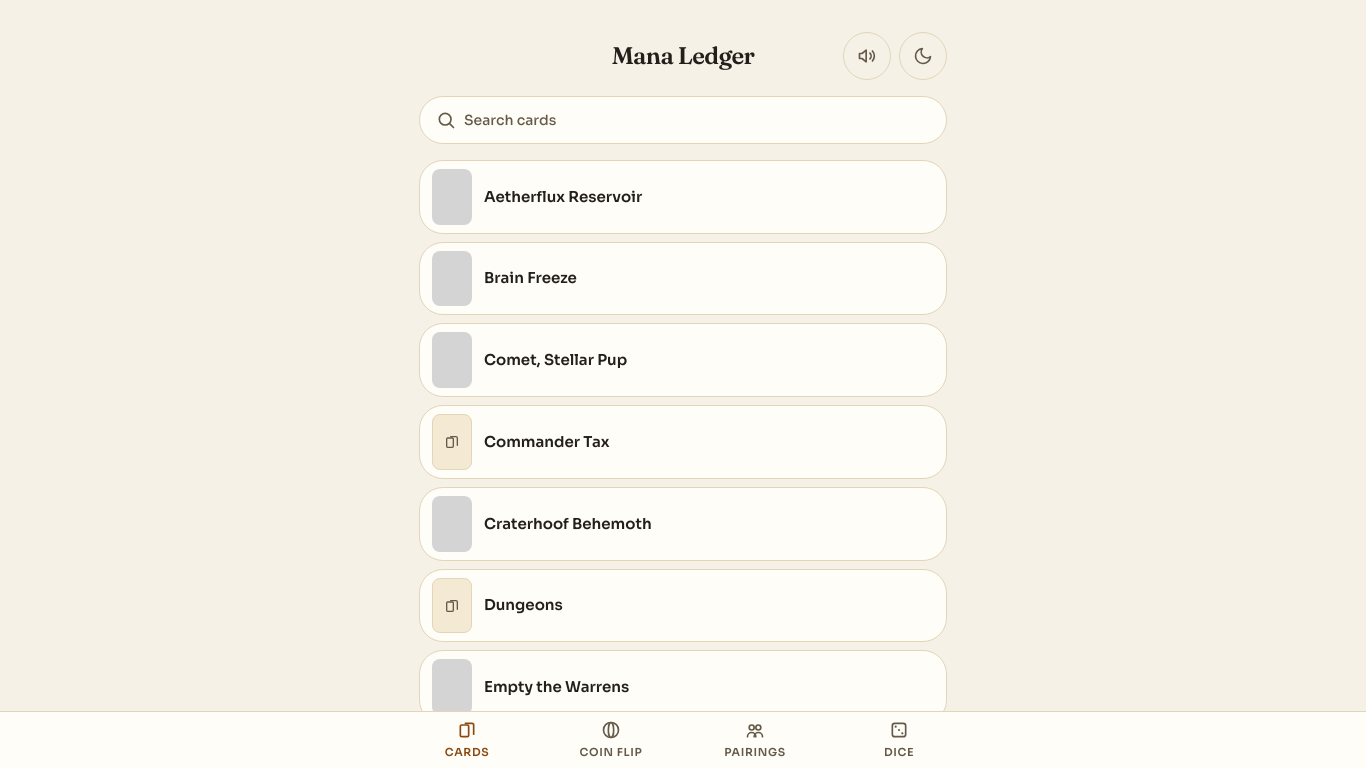
Scenario: App › switches to Coin Flip and back to the card picker
What coordinates should you click on to do the following:
click the button "Coin Flip"
I would click on:
 (611, 740)
Its box is [539, 712, 683, 767].
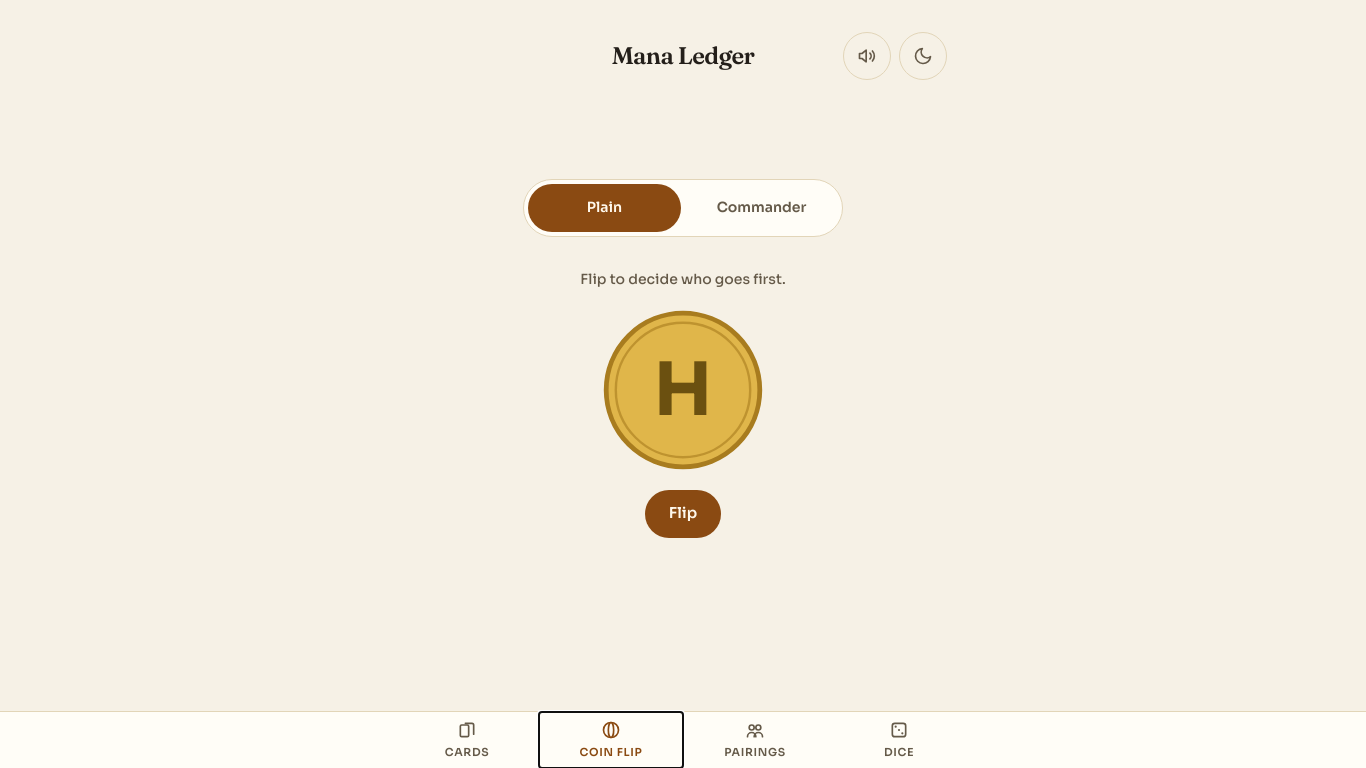
What coordinates should you click on to do the following:
click the button "Cards"
I would click on:
 (467, 740)
Its box is [395, 712, 539, 767].
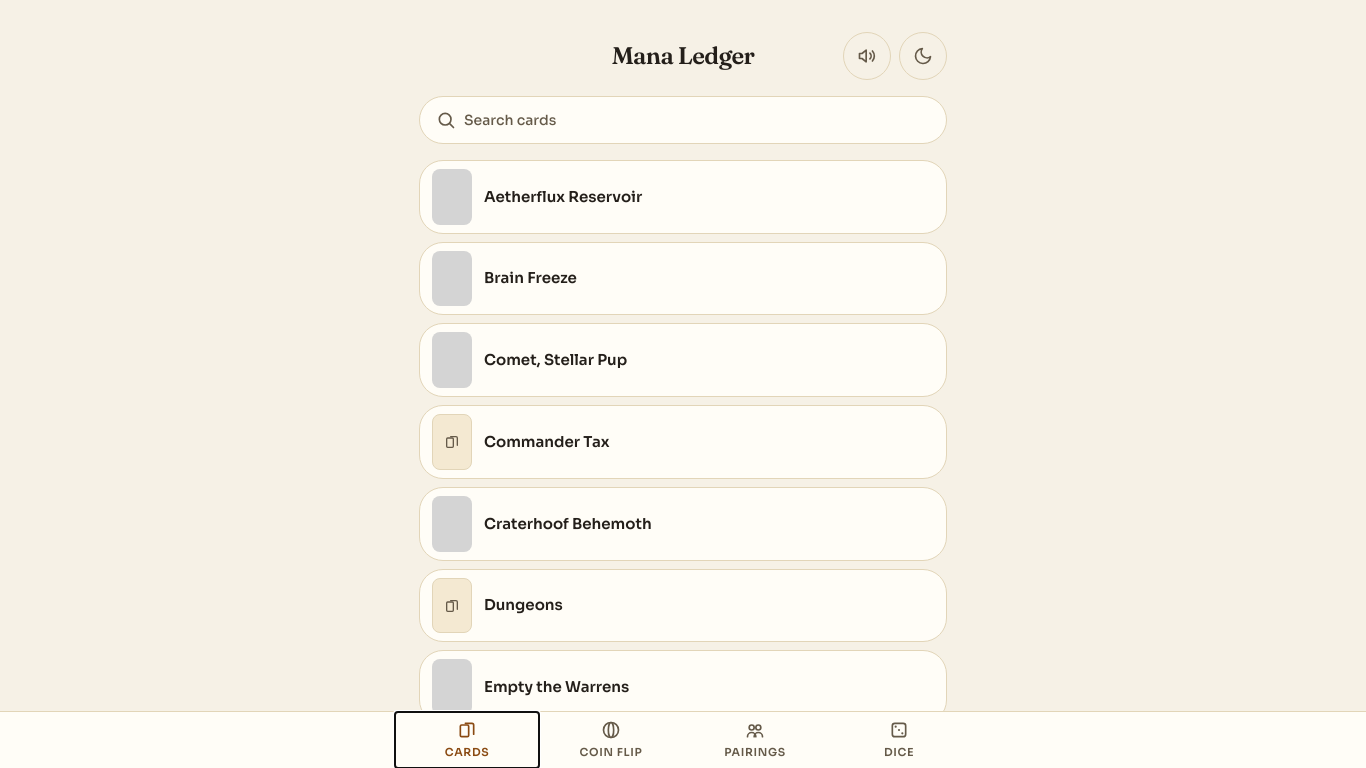
Check: the search field labelled "Search cards" is shown, box [464, 110, 930, 130]
